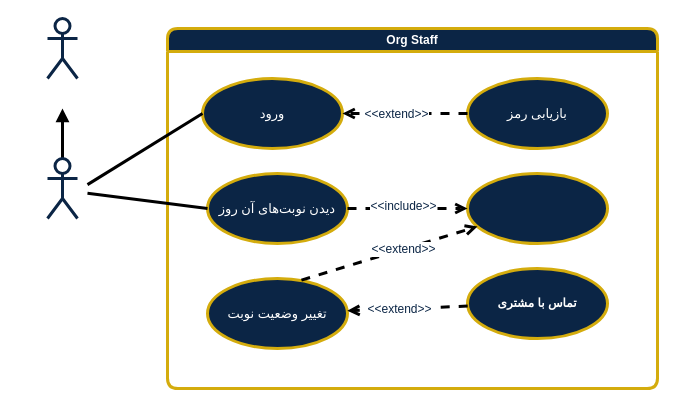
Image size: 676x407. Some labels were removed from this diagram. The centre of each missing label's shape, as x and y in pixels:
"ديدن ليست نوبت ها" belongs at (537,208).
"مشتری" belongs at (62,48).
"کارمند کسب‌وکار" belongs at (62,188).
